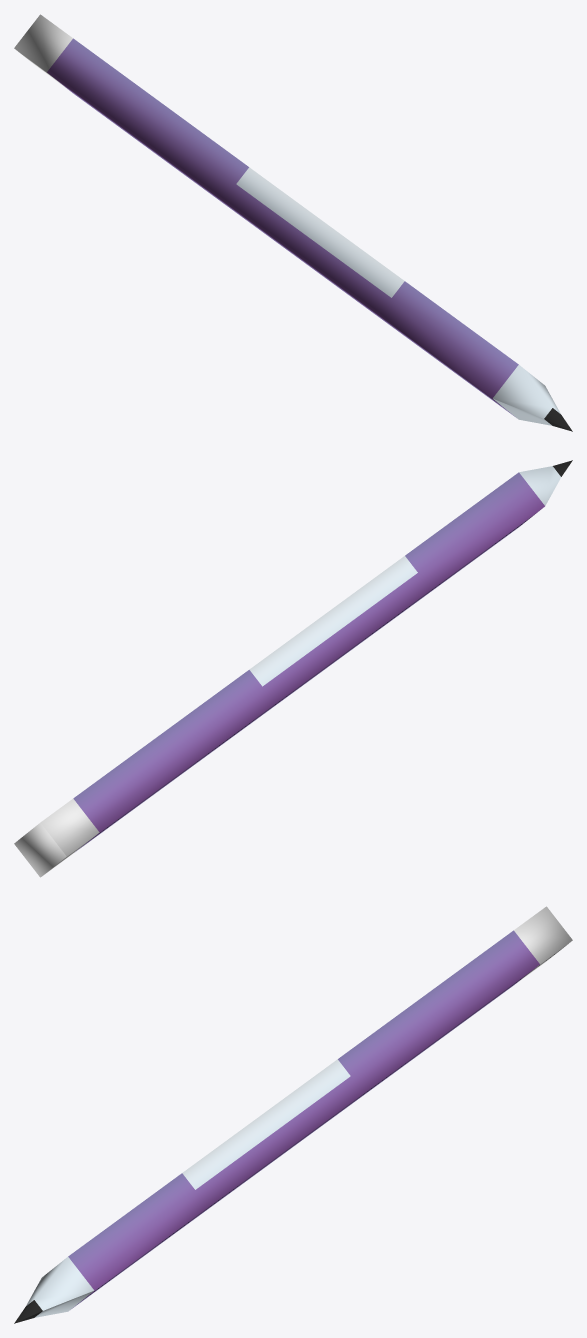
Rendered from CR_Pencil_001.FBX.
The picture shows the model from 3 angles, top to bottom: view 1: azimuth 30°, elevation 25°; view 2: azimuth 150°, elevation 25°; view 3: azimuth 330°, elevation 25°; orthographic projection.
Visible parts, largest first — view 1: CR_Pencil_001; view 2: CR_Pencil_001; view 3: CR_Pencil_001.
Part boxes in pixels (<box>): CR_Pencil_001: <box>14,14,572,431</box>; CR_Pencil_001: <box>14,460,572,877</box>; CR_Pencil_001: <box>14,906,572,1323</box>.
Bounding box in the file's own units: 0.5621 × 0.5621 × 9.83.
1 material, 1 textured.
